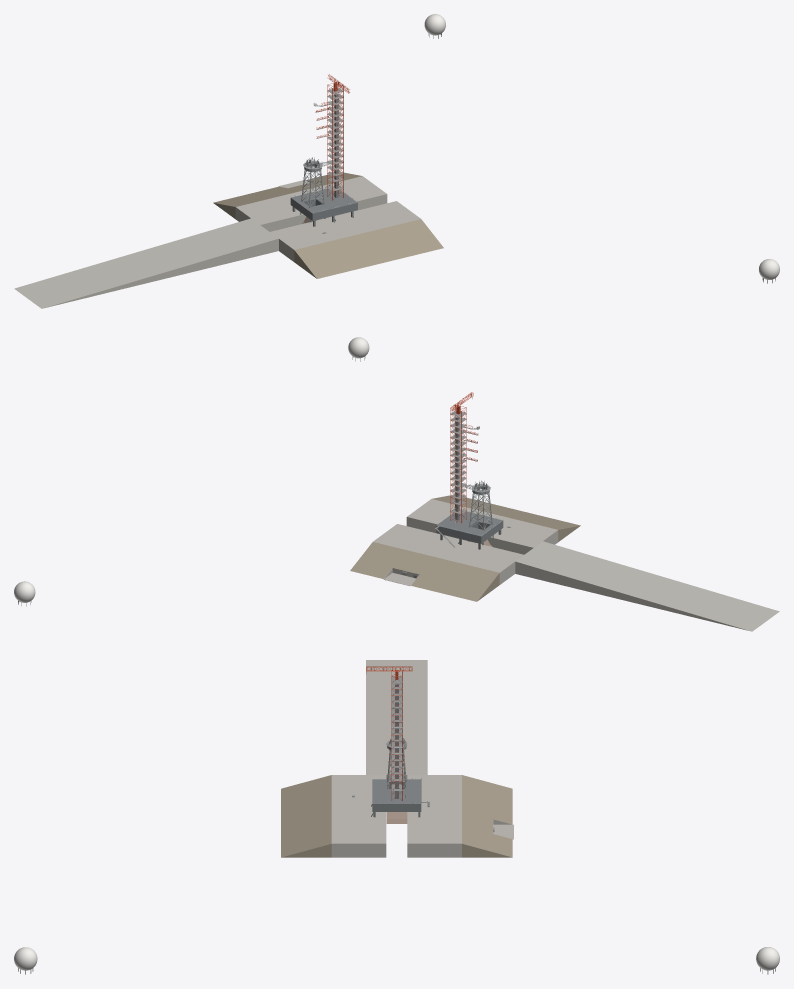
File: pad-b-1973-05.glb
3 views of the same model, one above another, from view 1: azimuth 30°, elevation 25°; view 2: azimuth 150°, elevation 25°; view 3: azimuth 270°, elevation 25° (orthographic). The views are drawn at different scales.
Visible parts, largest first — view 1: Hardstand_Concrete, Hardstand_Earth, Launcher_Base_Steel, Umbilical_Tower_Deck, Umbilical_Tower_Red, Storage_Spheres_White; view 2: Hardstand_Concrete, Hardstand_Earth, Launcher_Base_Steel, Umbilical_Tower_Deck, Umbilical_Tower_Red, Storage_Spheres_White; view 3: Hardstand_Concrete, Hardstand_Earth, Launcher_Base_Steel, Umbilical_Tower_Deck, Storage_Spheres_White, Umbilical_Tower_Red.
Part boxes in pixels (x1,y1,x2,y2): Hardstand_Concrete: [14, 176, 420, 308]; Hardstand_Earth: [213, 172, 443, 278]; Launcher_Base_Steel: [290, 189, 357, 220]; Umbilical_Tower_Deck: [327, 87, 343, 191]; Umbilical_Tower_Red: [327, 82, 343, 200]; Storage_Spheres_White: [424, 14, 779, 279]; Hardstand_Concrete: [373, 499, 779, 631]; Hardstand_Earth: [350, 495, 580, 601]; Launcher_Base_Steel: [436, 511, 503, 543]; Umbilical_Tower_Deck: [450, 410, 466, 514]; Umbilical_Tower_Red: [450, 405, 466, 523]; Storage_Spheres_White: [14, 337, 369, 602]; Hardstand_Concrete: [331, 660, 512, 857]; Hardstand_Earth: [281, 775, 512, 857]; Launcher_Base_Steel: [372, 779, 421, 811]; Umbilical_Tower_Deck: [391, 676, 402, 790]; Storage_Spheres_White: [14, 947, 779, 970]; Umbilical_Tower_Red: [391, 670, 402, 800].
Size of the model in its own units: 630 by 149 by 645.
